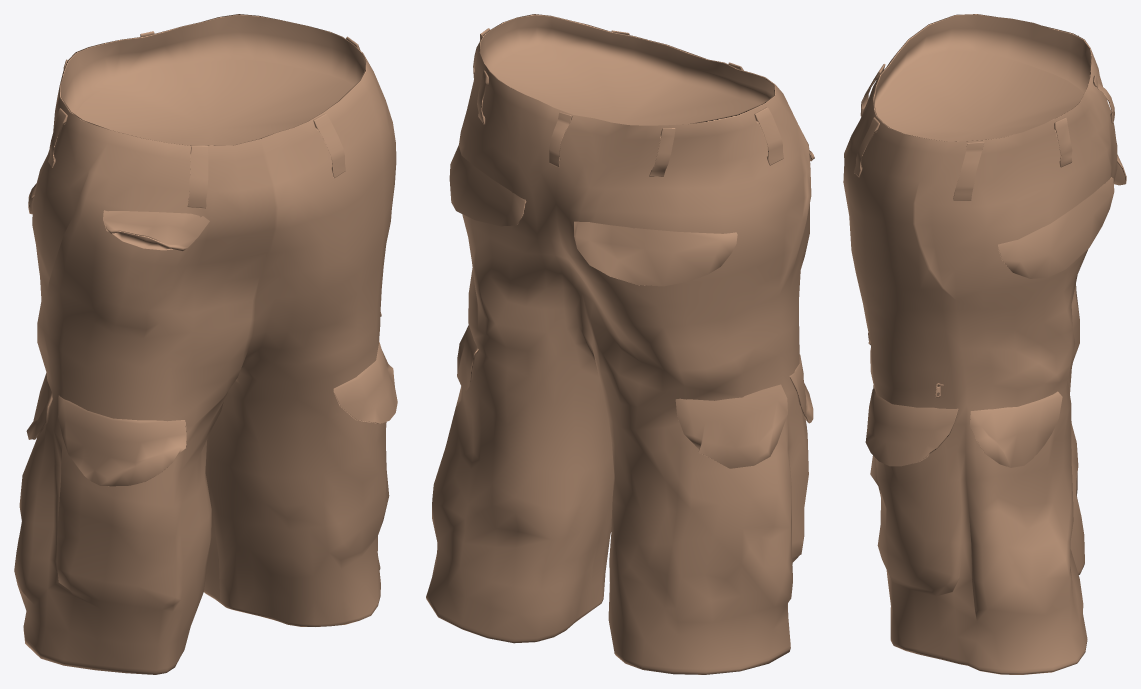
The picture shows the model from 3 angles, left to right: view 1: azimuth 30°, elevation 25°; view 2: azimuth 150°, elevation 25°; view 3: azimuth 270°, elevation 25°; orthographic projection. The views are drawn at different scales.
Parts seen in each view (by area): view 1: Bottoms; view 2: Bottoms; view 3: Bottoms.
Part boxes in pixels (box(x1,y1,x2,y2)): Bottoms: box(14, 14, 397, 674); Bottoms: box(426, 14, 814, 674); Bottoms: box(843, 14, 1126, 674).
Bounding box in the file's own units: 0.3912 × 0.5898 × 0.2835.
